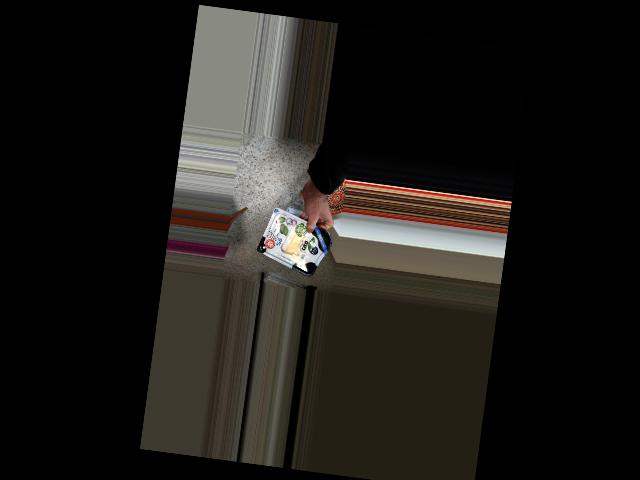cheese: (260, 216, 328, 272)
